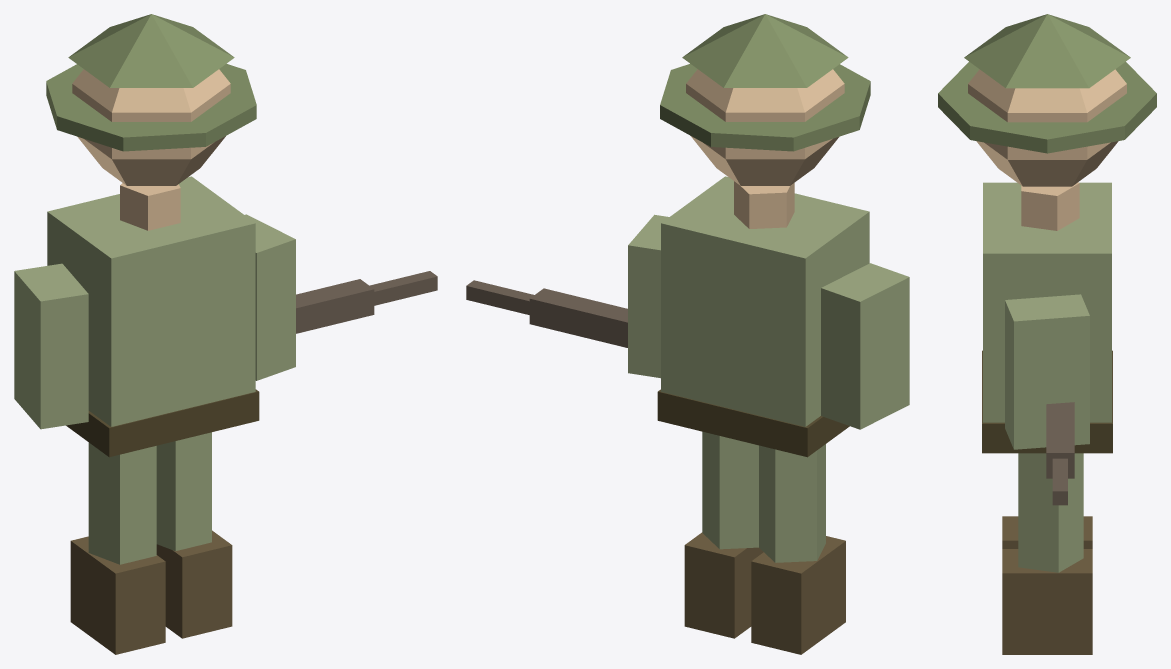
The model's file is unit_infantry.glb.
The picture shows the model from 3 angles, left to right: view 1: azimuth 30°, elevation 25°; view 2: azimuth 150°, elevation 25°; view 3: azimuth 270°, elevation 25°; orthographic projection.
Visible parts, largest first — view 1: unit_infantry; view 2: unit_infantry; view 3: unit_infantry.
Boxes of the visible parts, x1,y1,x2,y2 form: unit_infantry: (14, 14, 437, 654); unit_infantry: (466, 14, 909, 654); unit_infantry: (938, 14, 1156, 654).
Bounding box in the file's own units: 0.3749 × 0.525 × 0.17.
